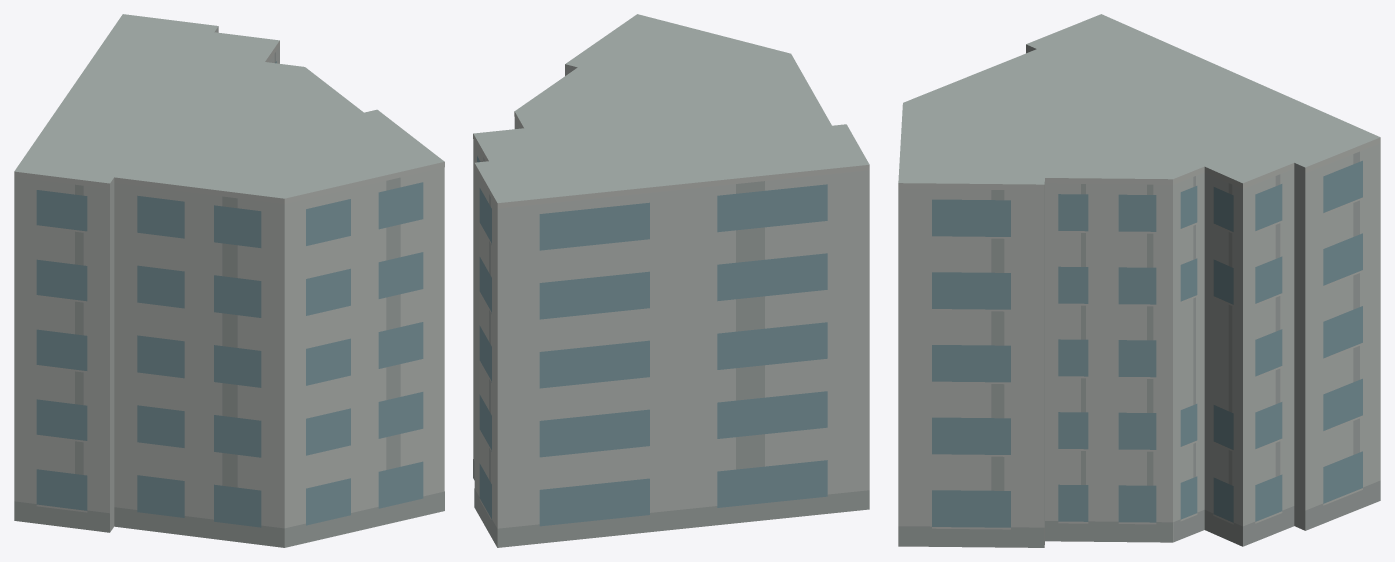
The model's file is survey-upis-32791257.glb.
3 renders of one model, left to right at view 1: azimuth 30°, elevation 25°; view 2: azimuth 150°, elevation 25°; view 3: azimuth 270°, elevation 25°, orthographic. The views are drawn at different scales.
Visible parts, largest first — view 1: survey-upis-32791257.tmp; view 2: survey-upis-32791257.tmp; view 3: survey-upis-32791257.tmp.
Part boxes in pixels (x1,y1,x2,y2): survey-upis-32791257.tmp: (14, 14, 444, 547); survey-upis-32791257.tmp: (473, 14, 869, 547); survey-upis-32791257.tmp: (898, 14, 1380, 547).
Size of the model in its own units: 15.36 by 15.25 by 18.36.
